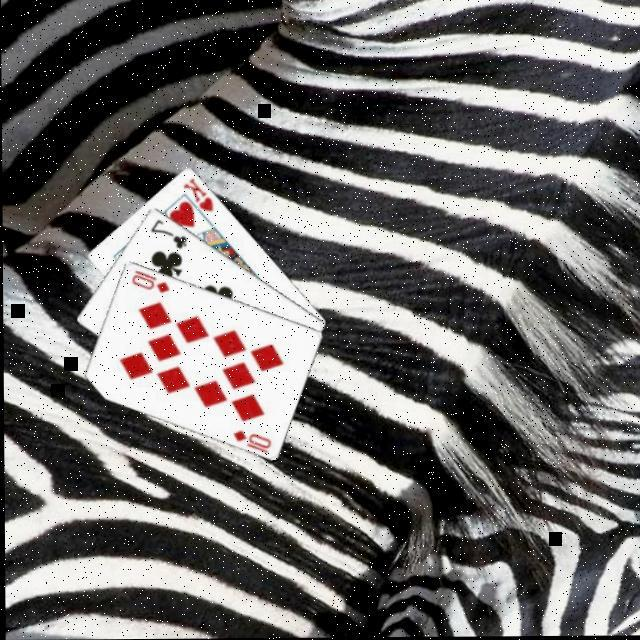10D: (128, 268, 172, 298), (230, 429, 274, 458)
7C: (148, 218, 190, 254)
KH: (180, 176, 216, 217)
